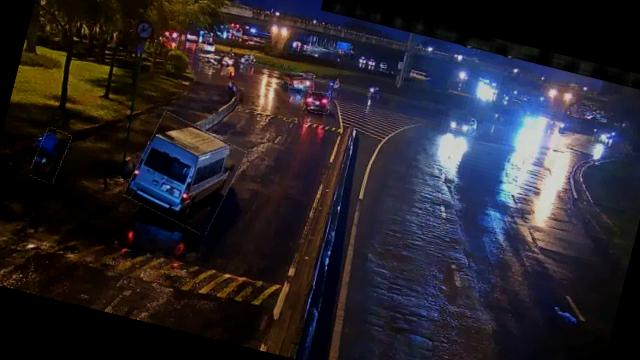Bike: (30, 127, 70, 185)
Bus: (124, 112, 245, 234)
Car: (302, 90, 331, 116), (288, 69, 316, 92)
